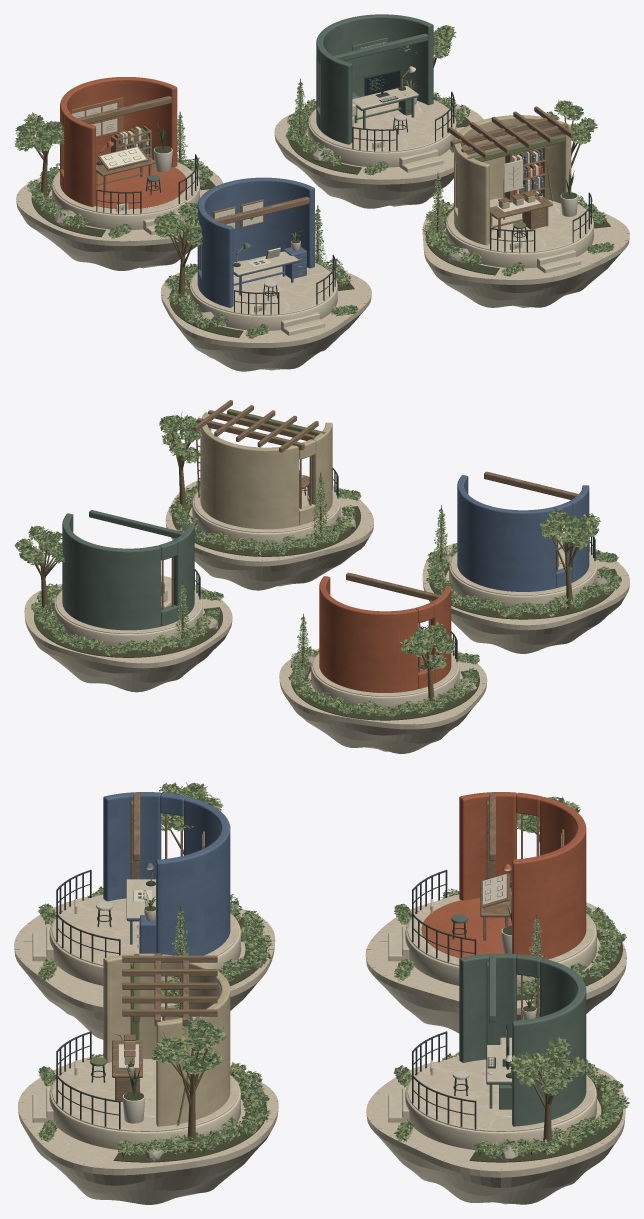
The model's file is archipelago-v6.glb.
3 views of the same model, one above another, from view 1: azimuth 30°, elevation 25°; view 2: azimuth 150°, elevation 25°; view 3: azimuth 270°, elevation 25° (orthographic). The views are drawn at different scales.
Parts seen in each view (by area): view 1: pavilion_evoluir, pavilion_gerar, pavilion_validar, pavilion_especificar, island_evoluir_foundation, island_validar_foundation, island_gerar_foundation, island_especificar_foundation, island_validar_groundcover, island_evoluir_groundcover, island_gerar_groundcover, island_especificar_groundcover (+7 smaller); view 2: pavilion_evoluir, pavilion_gerar, pavilion_especificar, pavilion_validar, island_gerar_foundation, island_especificar_foundation, island_evoluir_foundation, island_validar_foundation, island_validar_groundcover, island_especificar_groundcover, island_gerar_groundcover, island_evoluir_groundcover (+9 smaller); view 3: pavilion_evoluir, pavilion_gerar, pavilion_especificar, pavilion_validar, island_evoluir_foundation, island_gerar_foundation, island_especificar_foundation, island_evoluir_groundcover, island_validar_foundation, island_gerar_groundcover, island_validar_groundcover, island_especificar_groundcover (+5 smaller).
Part boxes in pixels (<box>): pavilion_evoluir: <box>445,106,593,273</box>; pavilion_gerar: <box>308,14,456,172</box>; pavilion_validar: <box>189,177,337,335</box>; pavilion_especificar: <box>52,77,199,234</box>; island_evoluir_foundation: <box>422,203,629,307</box>; island_validar_foundation: <box>160,266,371,371</box>; island_gerar_foundation: <box>274,101,483,208</box>; island_especificar_foundation: <box>16,166,223,270</box>; island_validar_groundcover: <box>164,255,358,338</box>; island_evoluir_groundcover: <box>422,195,614,276</box>; island_gerar_groundcover: <box>285,92,470,175</box>; island_especificar_groundcover: <box>27,157,215,238</box>; pavilion_evoluir: <box>192,400,340,547</box>; pavilion_gerar: <box>54,510,202,649</box>; pavilion_especificar: <box>311,572,459,711</box>; pavilion_validar: <box>449,471,597,609</box>; island_gerar_foundation: <box>24,584,232,692</box>; island_especificar_foundation: <box>279,649,487,753</box>; island_evoluir_foundation: <box>165,480,373,590</box>; island_validar_foundation: <box>422,543,629,653</box>; island_validar_groundcover: <box>426,543,621,619</box>; island_especificar_groundcover: <box>288,646,479,720</box>; island_gerar_groundcover: <box>31,583,223,657</box>; island_evoluir_groundcover: <box>169,481,361,556</box>; pavilion_evoluir: <box>32,953,240,1151</box>; pavilion_gerar: <box>388,953,596,1150</box>; pavilion_especificar: <box>388,792,596,987</box>; pavilion_validar: <box>32,792,240,985</box>; island_evoluir_foundation: <box>18,1054,278,1204</box>; island_gerar_foundation: <box>366,1060,625,1204</box>; island_especificar_foundation: <box>365,901,626,1033</box>; island_evoluir_groundcover: <box>38,1053,270,1162</box>; island_validar_foundation: <box>14,897,275,1039</box>; island_gerar_groundcover: <box>393,1052,629,1162</box>; island_validar_groundcover: <box>38,886,272,996</box>; island_especificar_groundcover: <box>394,888,626,1000</box>.
Bounding box in the file's own units: 17.38 × 5.91 × 16.27.
Materials: 27 (8 with a texture image).
